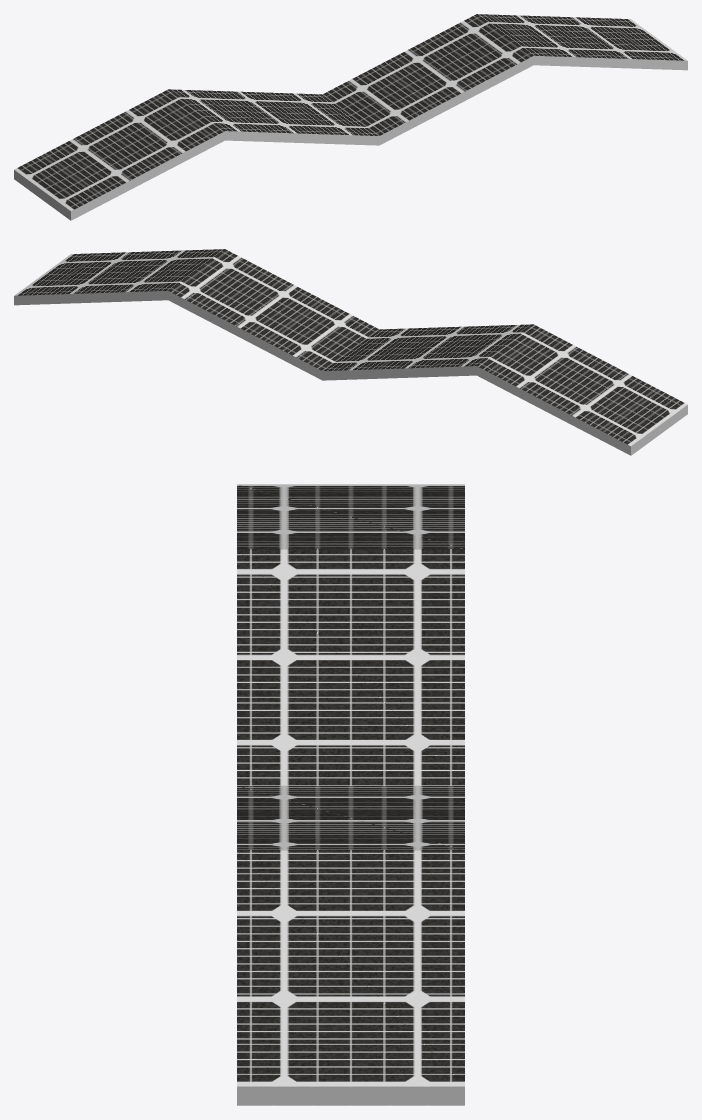
The model's file is FBX_SolarPanelCrooked.fbx.
The picture shows the model from 3 angles, top to bottom: view 1: azimuth 30°, elevation 25°; view 2: azimuth 150°, elevation 25°; view 3: azimuth 270°, elevation 25°; orthographic projection. The views are drawn at different scales.
Parts seen in each view (by area): view 1: Crooked Solar Panel Export; view 2: Crooked Solar Panel Export; view 3: Crooked Solar Panel Export.
Part boxes in pixels (x1,y1,x2,y2): Crooked Solar Panel Export: (14, 14, 687, 220); Crooked Solar Panel Export: (14, 249, 687, 455); Crooked Solar Panel Export: (237, 484, 464, 1105).
Size of the model in its own units: 5 by 0.8 by 0.404.
